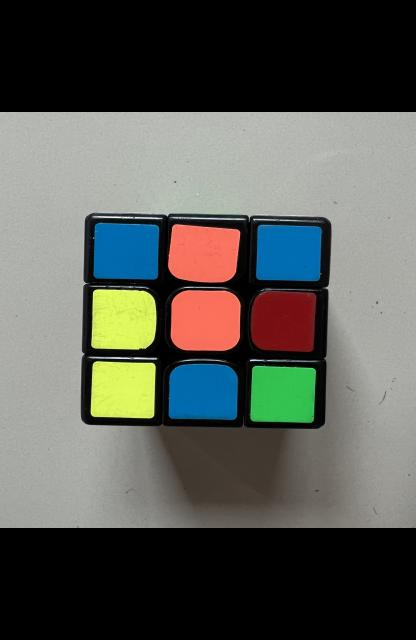Blue: (168, 363, 237, 420), (93, 222, 158, 280), (256, 225, 320, 281)
Green: (249, 366, 316, 423)
Orange: (169, 290, 239, 351), (167, 225, 239, 282)
Red: (249, 291, 316, 351)
Yellow: (90, 290, 156, 349), (89, 361, 154, 419)
